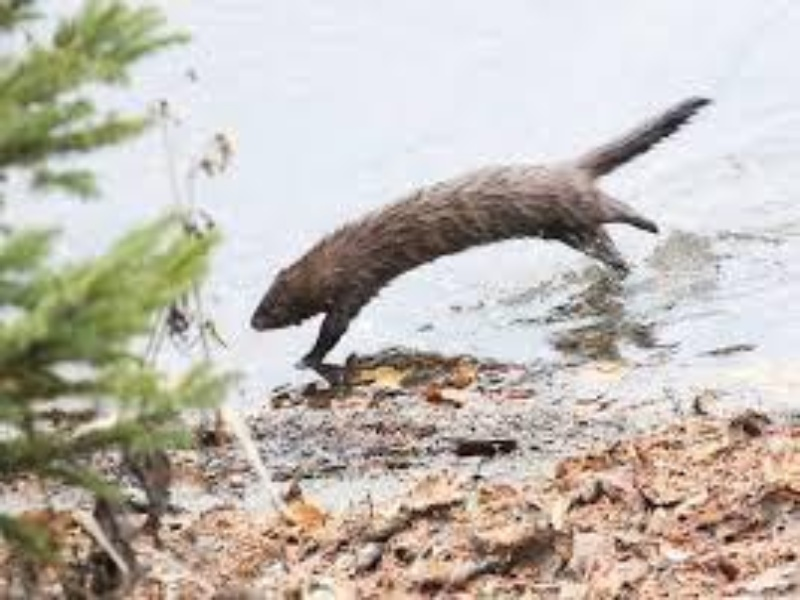minkish: (248, 94, 719, 370)
